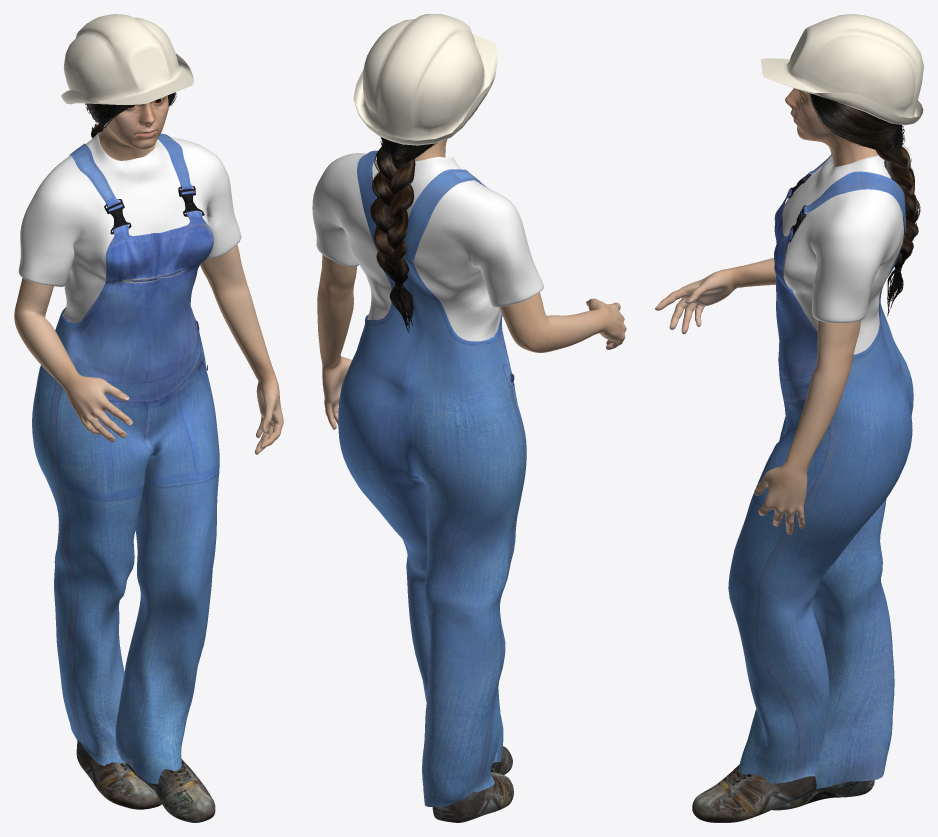
Rendered from female_worker.glb.
3 renders of one model, left to right at view 1: azimuth 30°, elevation 25°; view 2: azimuth 150°, elevation 25°; view 3: azimuth 270°, elevation 25°, orthographic. The views are drawn at different scales.
Parts seen in each view (by area): view 1: FbxMesh.003, FbxMesh, FbxMesh.005, FbxMesh.004, FbxMesh.001; view 2: FbxMesh.003, FbxMesh.005, FbxMesh, FbxMesh.001, FbxMesh.004; view 3: FbxMesh.003, FbxMesh, FbxMesh.005, FbxMesh.001, FbxMesh.004.
Part boxes in pixels (x1=…): FbxMesh.003: x1=18, y1=131, x2=241, y2=783; FbxMesh: x1=14, y1=95, x2=283, y2=454; FbxMesh.005: x1=61, y1=14, x2=193, y2=104; FbxMesh.004: x1=76, y1=740, x2=215, y2=822; FbxMesh.001: x1=85, y1=92, x2=176, y2=137; FbxMesh.003: x1=312, y1=150, x2=543, y2=806; FbxMesh.005: x1=353, y1=14, x2=497, y2=145; FbxMesh: x1=317, y1=139, x2=626, y2=429; FbxMesh.001: x1=370, y1=108, x2=477, y2=333; FbxMesh.004: x1=432, y1=746, x2=513, y2=822; FbxMesh.003: x1=728, y1=154, x2=913, y2=788; FbxMesh: x1=655, y1=88, x2=877, y2=534; FbxMesh.005: x1=761, y1=14, x2=923, y2=125; FbxMesh.001: x1=809, y1=93, x2=920, y2=316; FbxMesh.004: x1=692, y1=764, x2=874, y2=822.
Size of the model in its own units: 0.5464 by 1.64 by 0.5022.
Materials: 6 (5 with a texture image).
